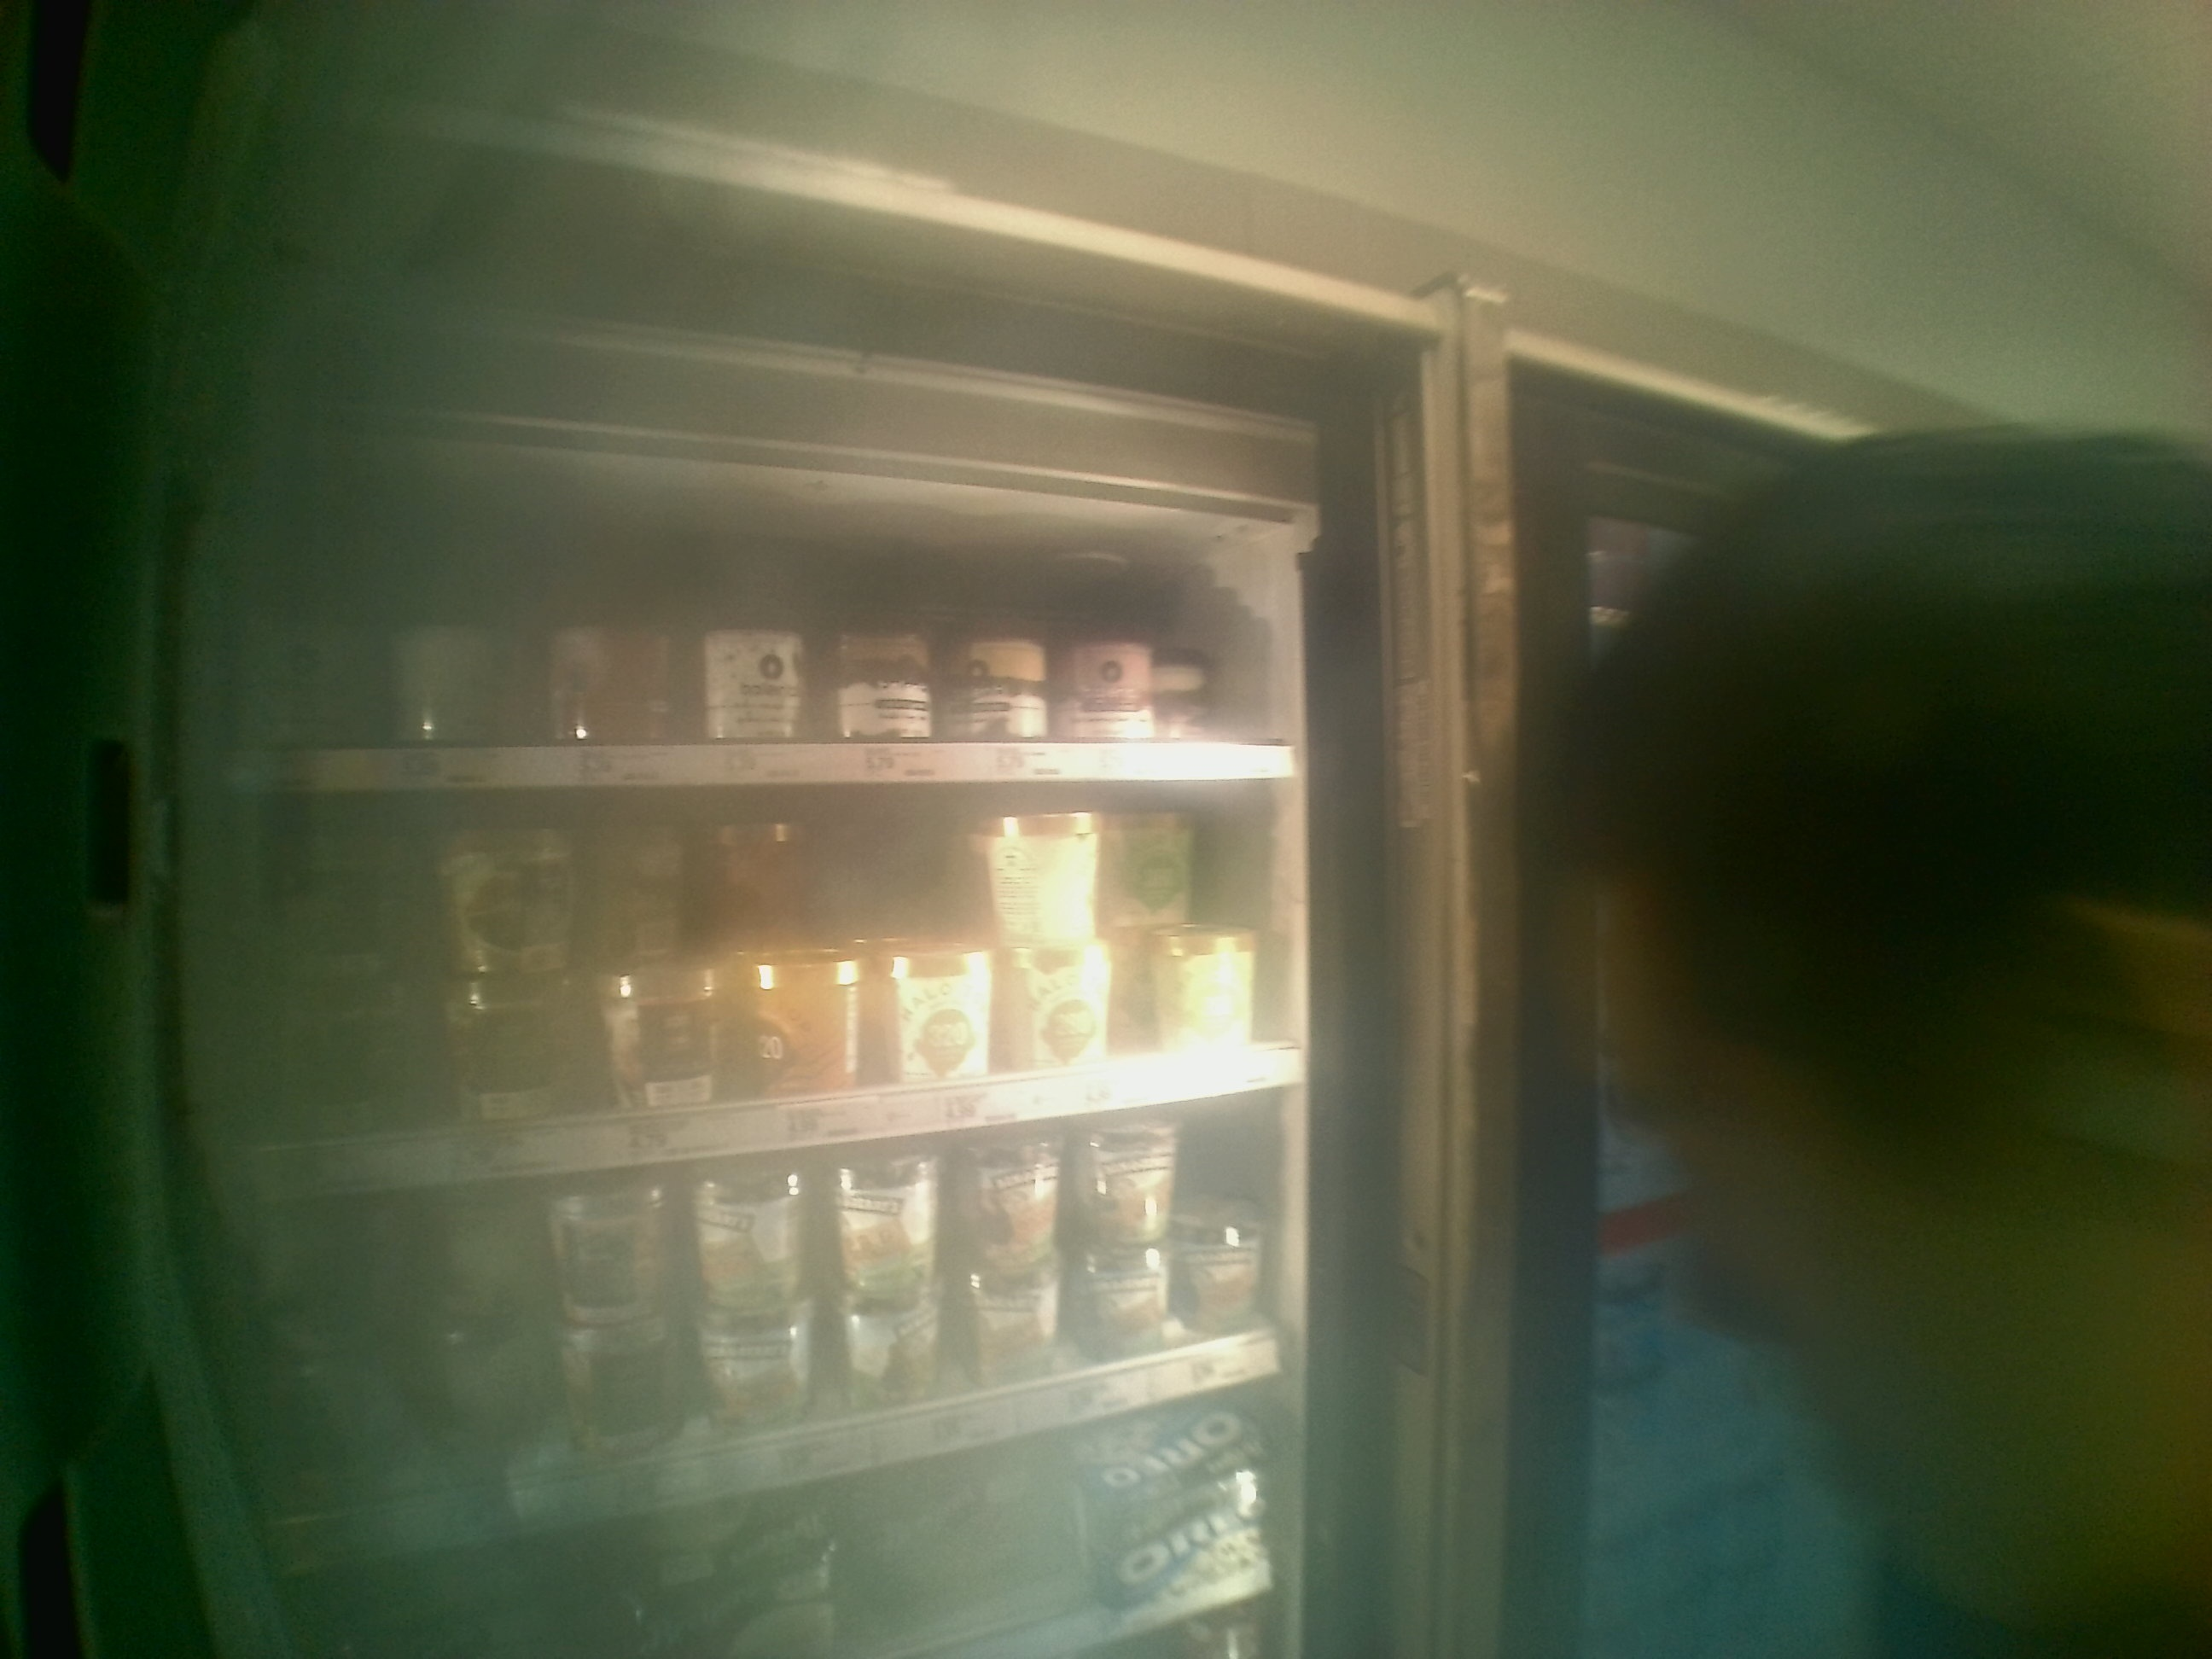shelf: (258, 1087, 1298, 1572), (251, 772, 1308, 1208), (268, 427, 1315, 777)
